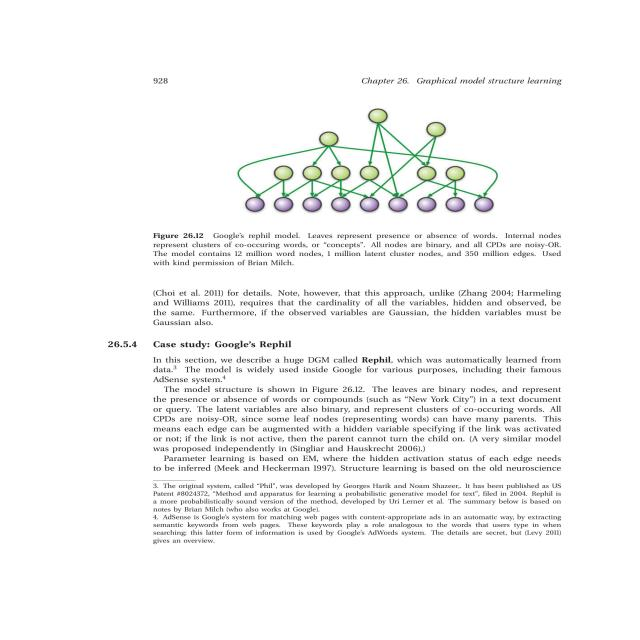diagram: (127, 96, 578, 276)
